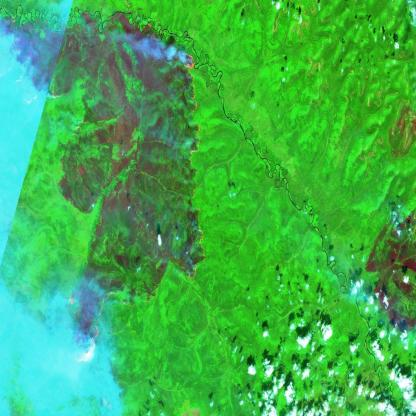fire: (64, 276, 146, 366), (180, 48, 204, 164), (185, 188, 208, 282)
